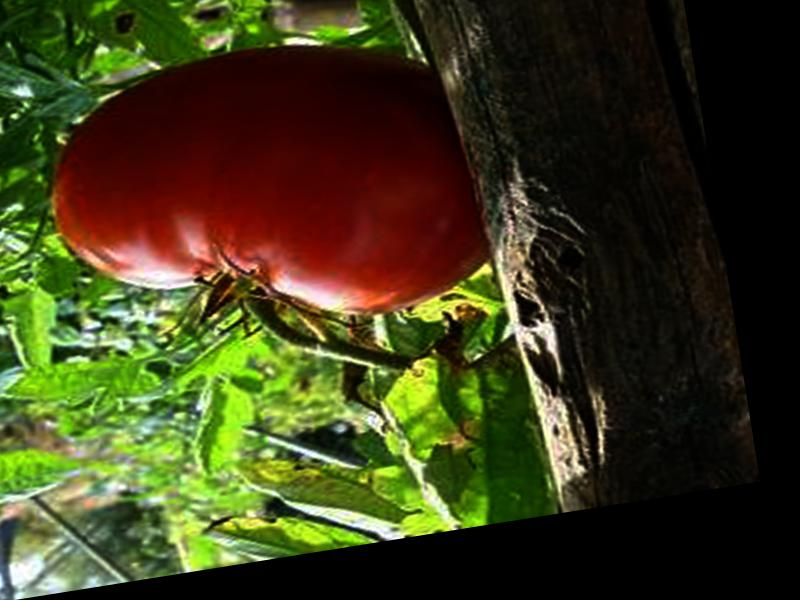Tomato: (32, 19, 502, 361)
